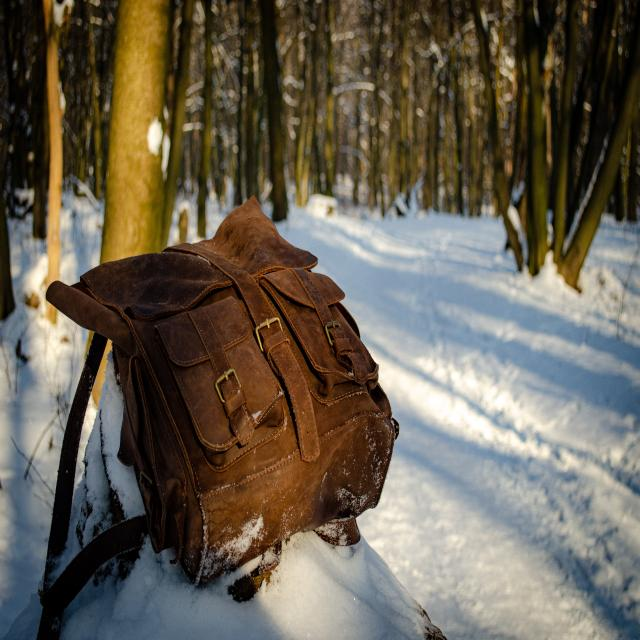backpack: (42, 189, 398, 630)
